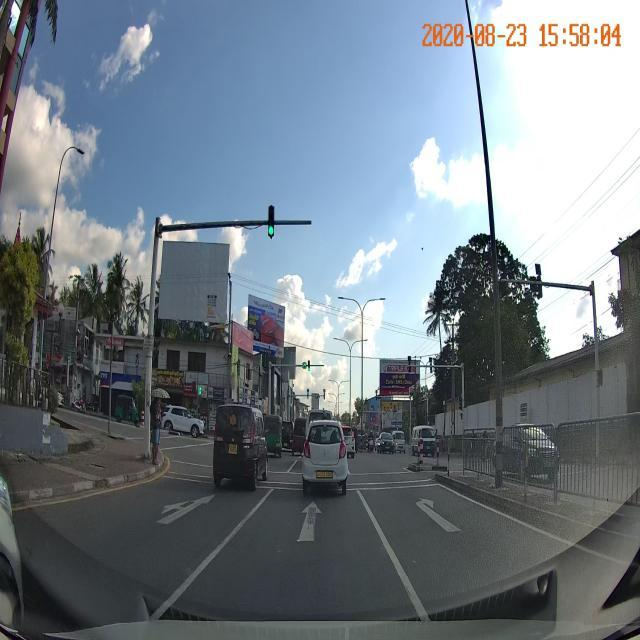forward: (212, 493, 395, 553)
